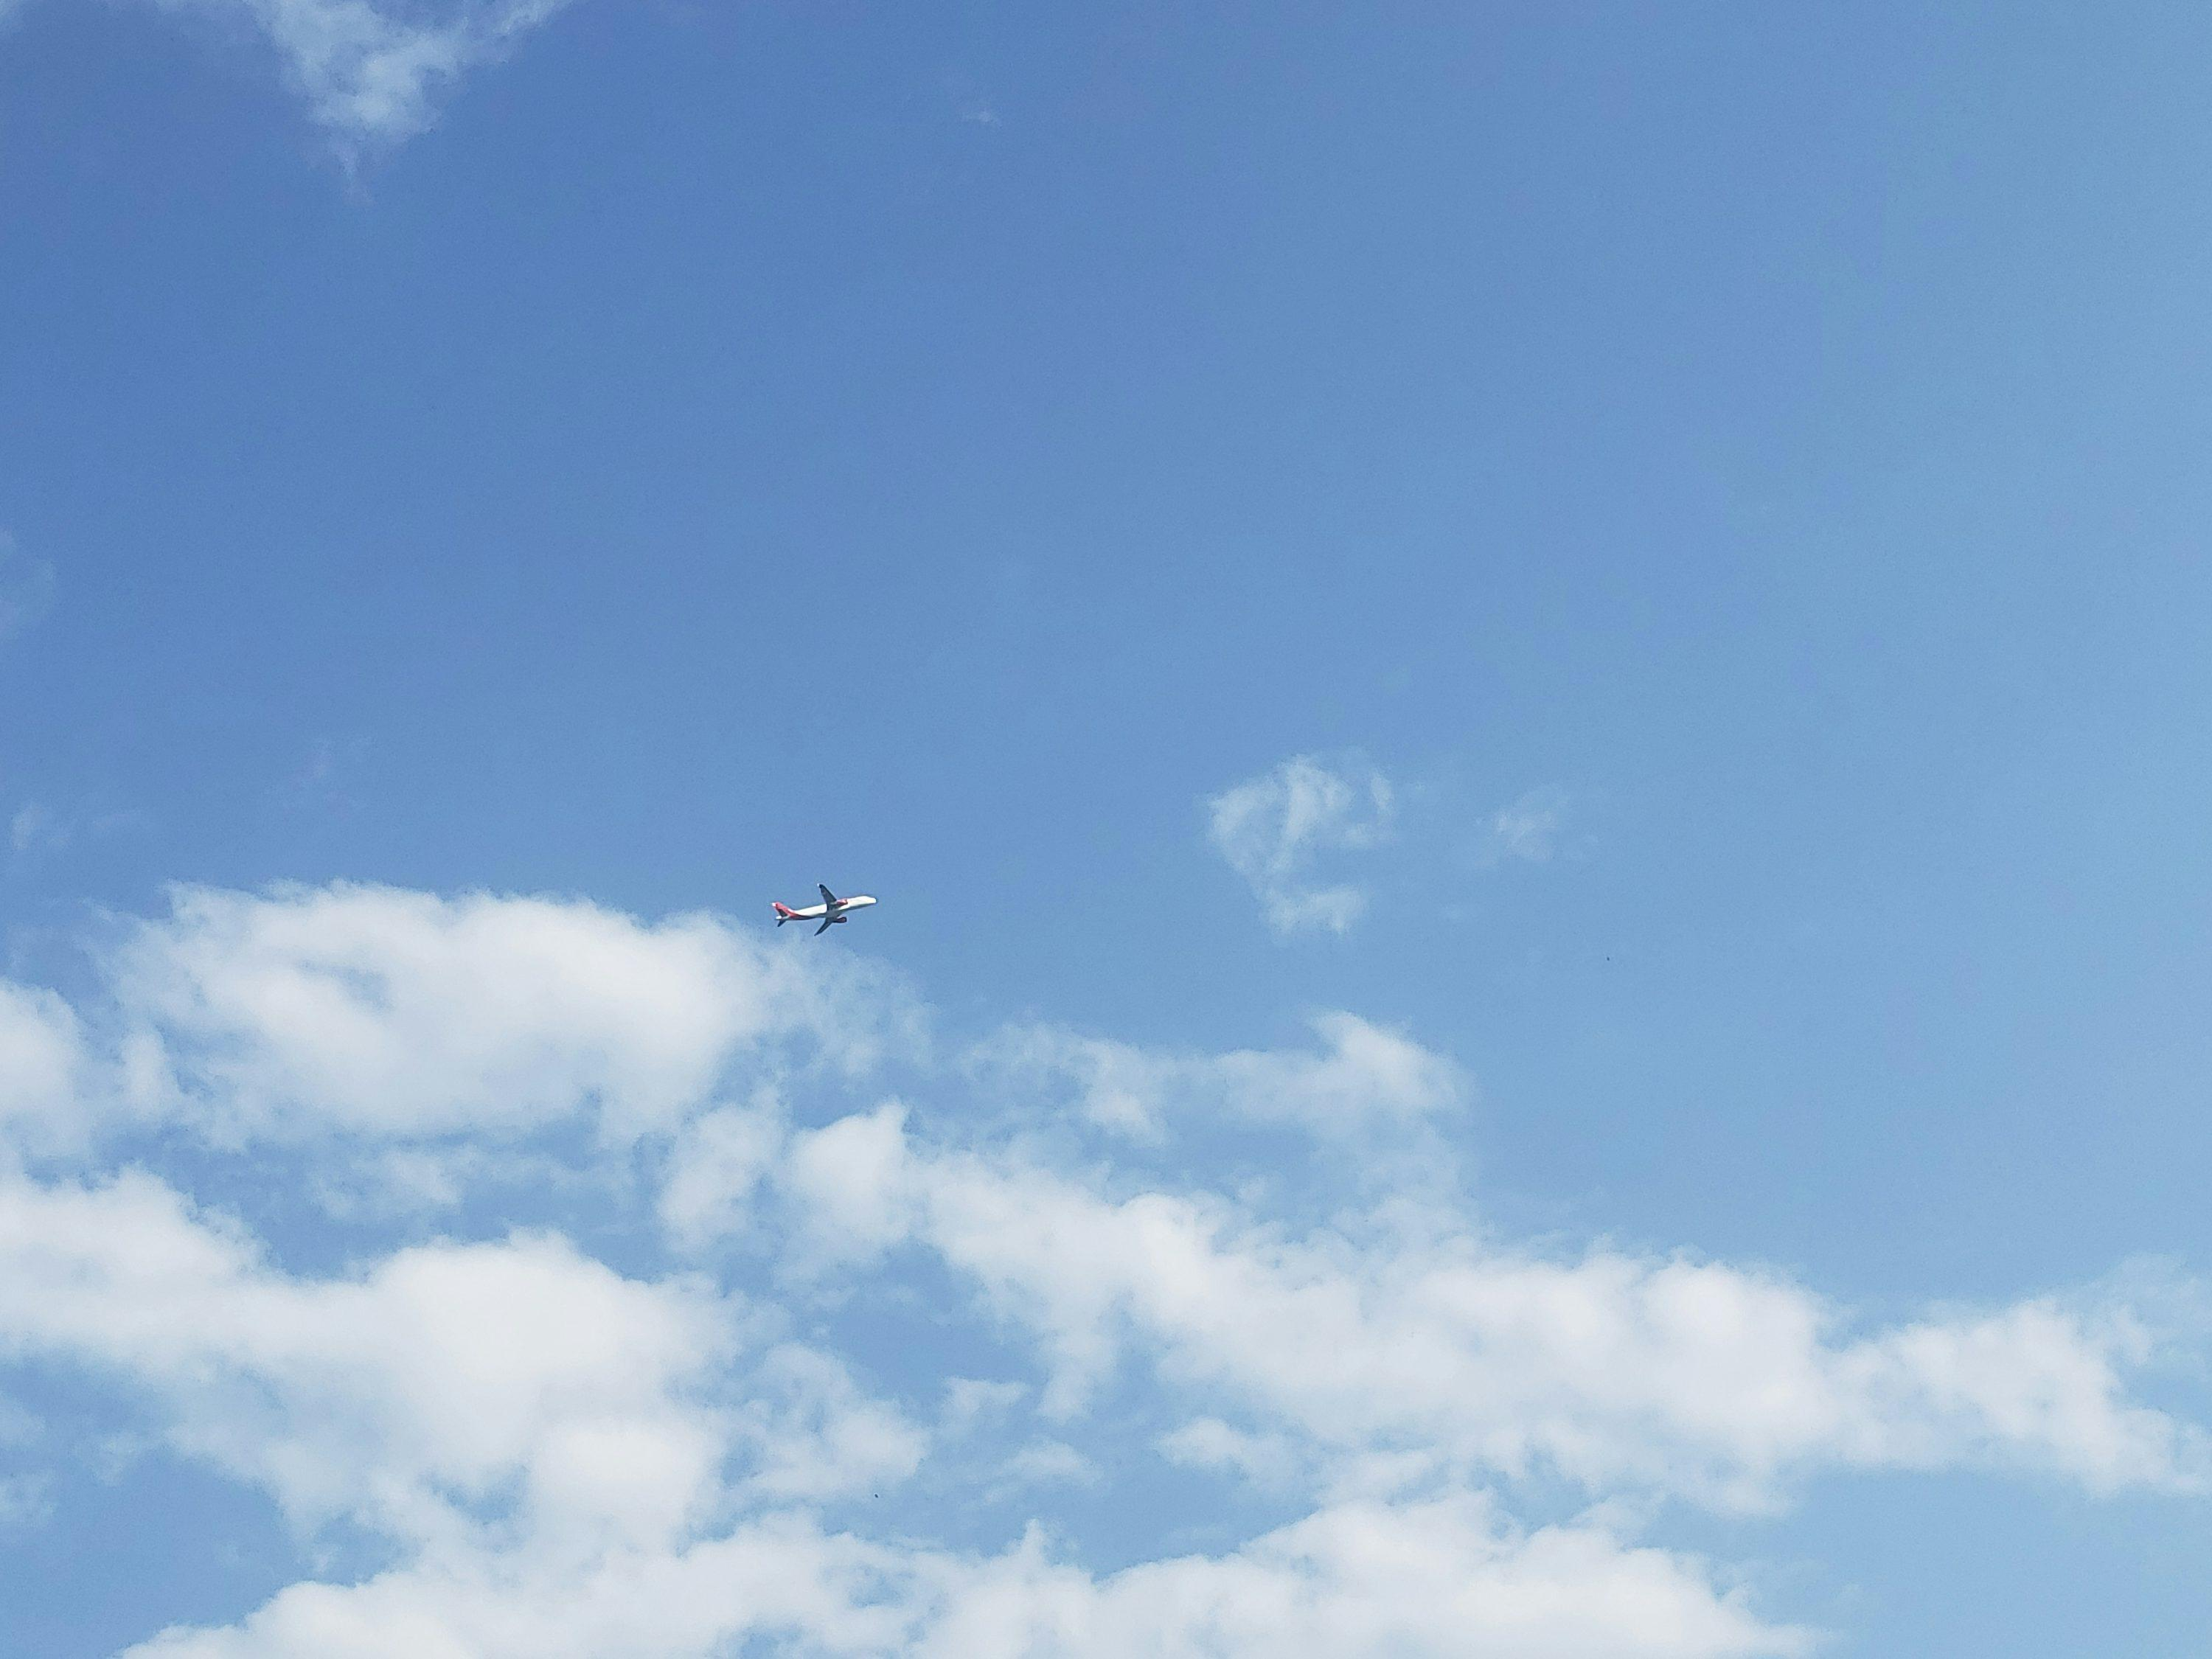Plane: (740, 864, 906, 957)
